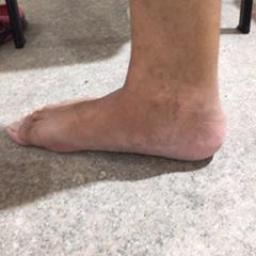Medial View -Right Foot-: (3, 34, 232, 168)
